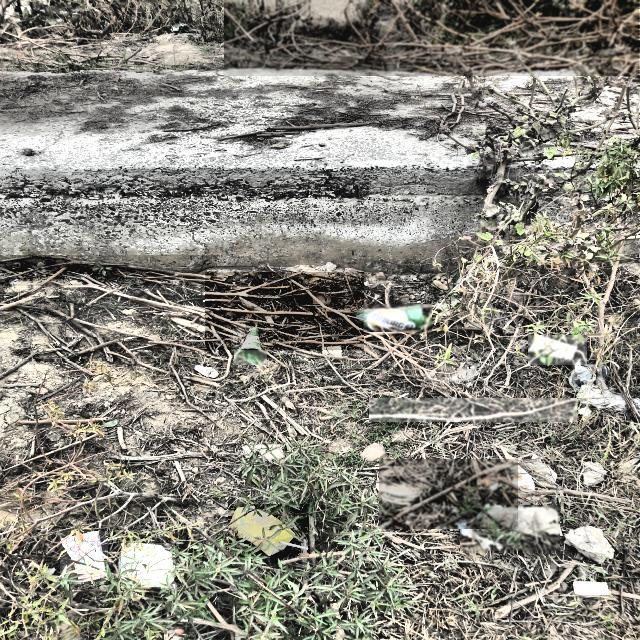anorganik: (61, 531, 108, 583), (121, 543, 175, 588), (356, 305, 432, 332), (234, 329, 267, 365), (573, 582, 610, 595)
organik: (224, 0, 638, 76), (0, 292, 211, 360), (206, 273, 363, 350), (67, 277, 248, 337), (379, 459, 518, 529), (0, 257, 217, 286), (370, 398, 577, 422), (460, 505, 560, 551), (228, 505, 309, 557), (528, 335, 587, 365)
